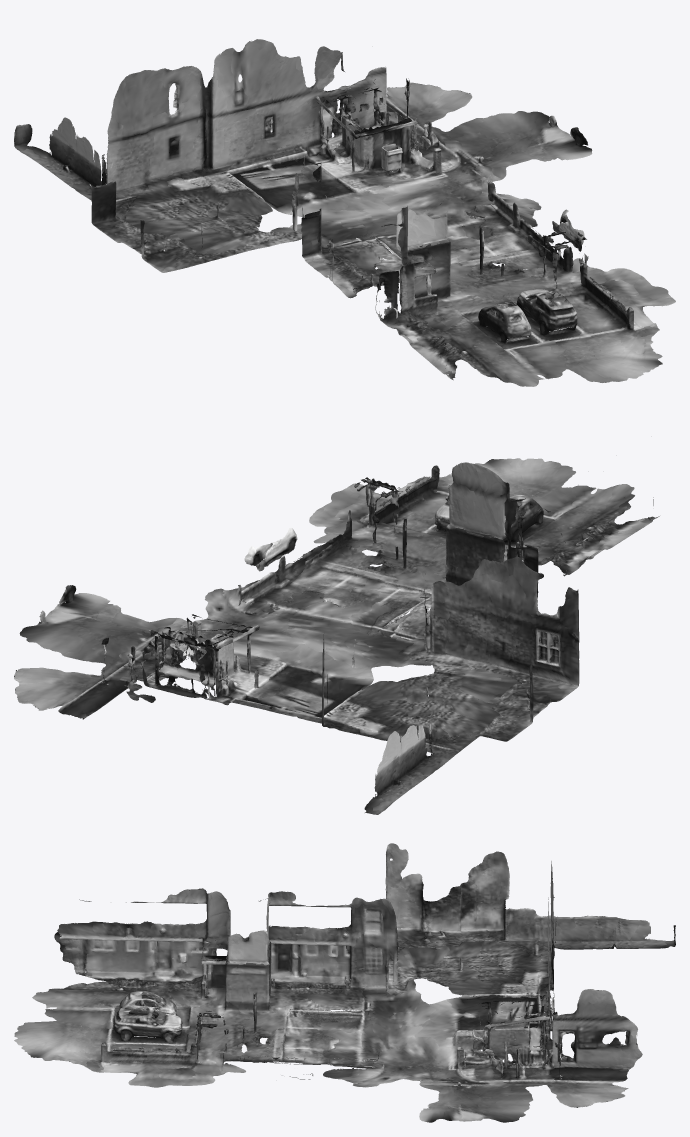
3 renders of one model, top to bottom at view 1: azimuth 30°, elevation 25°; view 2: azimuth 150°, elevation 25°; view 3: azimuth 270°, elevation 25°, orthographic. The views are drawn at different scales.
Parts seen in each view (by area): view 1: mesh; view 2: mesh; view 3: mesh.
Boxes of the visible parts, left/top/right/bottom form: mesh: left=14, top=39, right=675, bottom=386; mesh: left=14, top=458, right=659, bottom=814; mesh: left=14, top=843, right=675, bottom=1122.
Size of the model in its own units: 27.35 by 7.42 by 40.33.
Materials: 1 (1 with a texture image).
